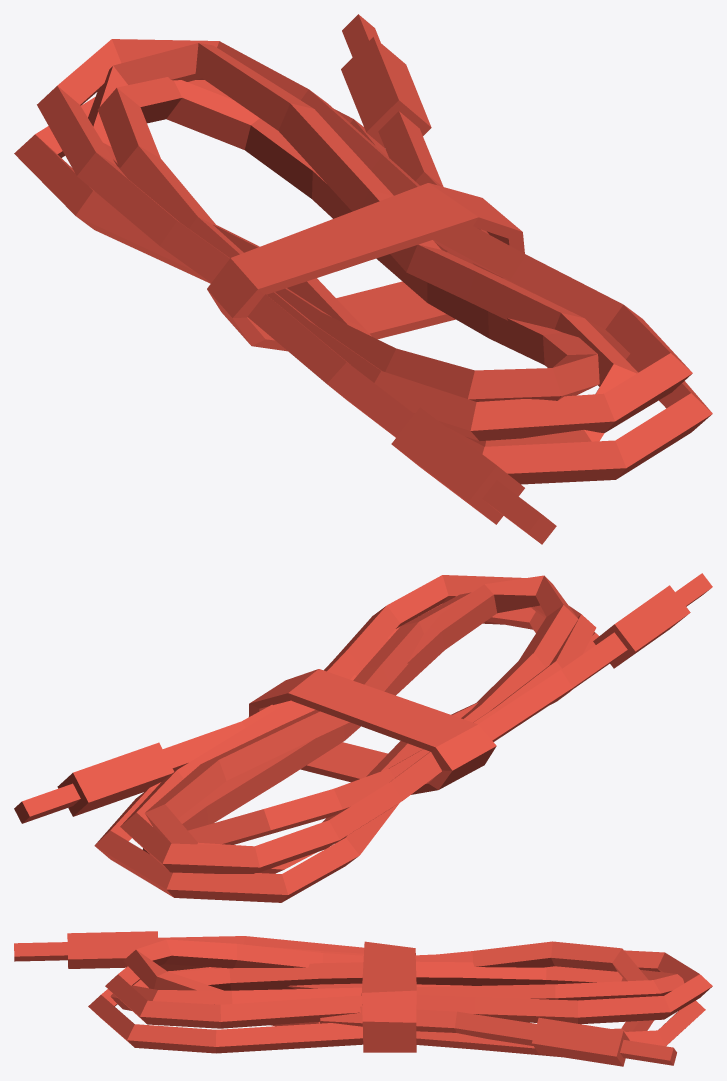
The model's file is SM_Cable_Jack_Stranded_B.fbx.
3 renders of one model, top to bottom at view 1: azimuth 30°, elevation 25°; view 2: azimuth 150°, elevation 25°; view 3: azimuth 270°, elevation 25°, orthographic. The views are drawn at different scales.
Visible parts, largest first — view 1: SM_Cable_Jack_Stranded_B; view 2: SM_Cable_Jack_Stranded_B; view 3: SM_Cable_Jack_Stranded_B.
Boxes of the visible parts, x1,y1,x2,y2 form: SM_Cable_Jack_Stranded_B: (14, 14, 712, 544); SM_Cable_Jack_Stranded_B: (14, 573, 712, 902); SM_Cable_Jack_Stranded_B: (14, 931, 712, 1066).
Size of the model in its own units: 34.75 by 14.15 by 3.78.
